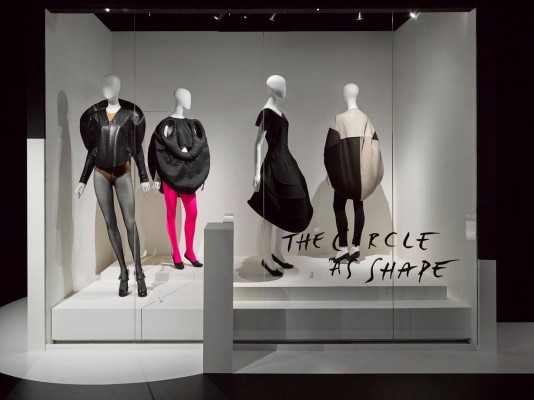person-like: (69, 68, 153, 301), (243, 70, 320, 281), (146, 85, 214, 274), (320, 77, 387, 266)
